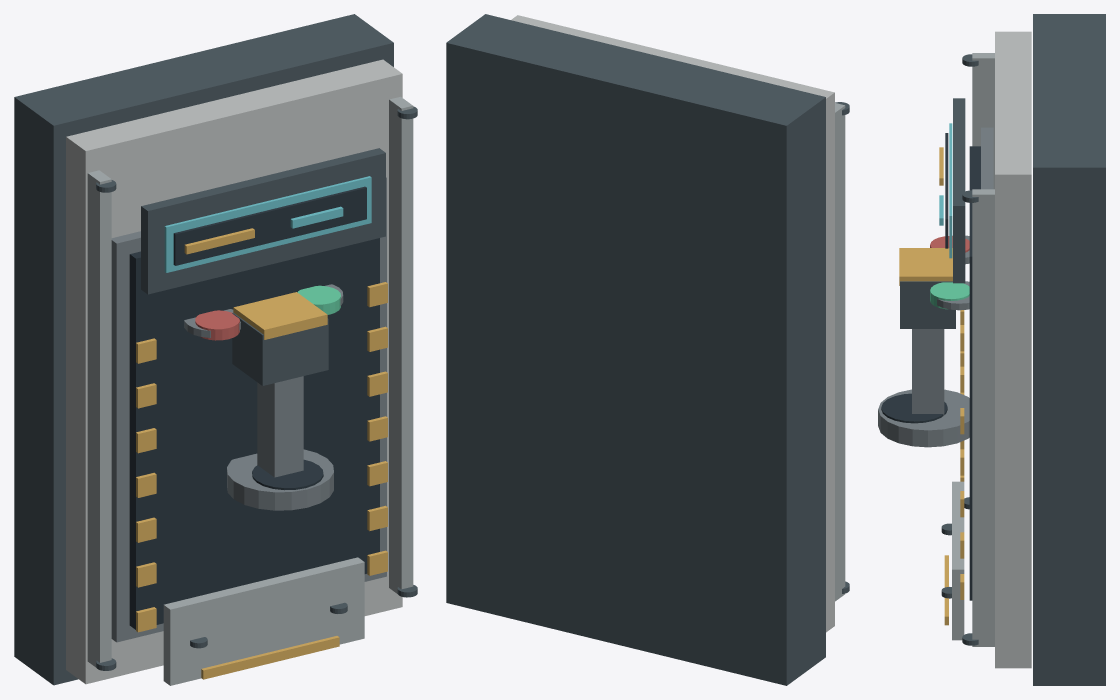
File: cruz-del-sur-auxiliary-power-switch.glb
3 views of the same model, side by side, from view 1: azimuth 30°, elevation 25°; view 2: azimuth 150°, elevation 25°; view 3: azimuth 270°, elevation 25° (orthographic). The views are drawn at different scales.
Parts seen in each view (by area): view 1: Housing_CentralBlackPanel, Housing_Backplate, Housing_WhiteFront, LowerMaintenancePlate, StatusPanel, SideTrim_-0.155, SideTrim_0.155, Housing_InnerRecess, StatusScreenOverlay, LEVER_GRIP_ANIMATE, LEVER_SHAFT_ANIMATE, StatusPanelScreen (+7 smaller); view 2: Housing_Backplate, Housing_WhiteFront, SideTrim_-0.155; view 3: Housing_Backplate, Housing_WhiteFront, SideTrim_0.155, LeverPivotFixed, LEVER_SHAFT_ANIMATE, StatusPanel, Housing_CentralBlackPanel, LEVER_GRIP_ANIMATE, SideTrim_-0.155, LEVER_GRIP_AMBER_ANIMATE, LowerMaintenancePlate, LeverPivotInnerFixed (+4 smaller).
Boxes of the visible parts, <box> form: Housing_CentralBlackPanel: <box>129,238,379,629</box>; Housing_Backplate: <box>14,14,393,685</box>; Housing_WhiteFront: <box>66,59,402,684</box>; LowerMaintenancePlate: <box>163,557,364,685</box>; StatusPanel: <box>141,148,385,294</box>; SideTrim_-0.155: <box>87,170,111,667</box>; SideTrim_0.155: <box>389,96,413,596</box>; Housing_InnerRecess: <box>111,177,386,642</box>; StatusScreenOverlay: <box>173,186,366,265</box>; LEVER_GRIP_ANIMATE: <box>232,312,328,385</box>; LEVER_SHAFT_ANIMATE: <box>257,376,303,477</box>; StatusPanelScreen: <box>164,176,371,272</box>; Housing_Backplate: <box>446,14,825,685</box>; Housing_WhiteFront: <box>511,15,834,632</box>; SideTrim_-0.155: <box>835,103,845,601</box>; Housing_Backplate: <box>1033,14,1105,685</box>; Housing_WhiteFront: <box>995,31,1031,668</box>; SideTrim_0.155: <box>972,189,994,646</box>; LeverPivotFixed: <box>878,389,969,447</box>; LEVER_SHAFT_ANIMATE: <box>912,329,944,415</box>; StatusPanel: <box>953,98,965,283</box>; Housing_CentralBlackPanel: <box>969,146,980,600</box>; LEVER_GRIP_ANIMATE: <box>900,281,955,328</box>; SideTrim_-0.155: <box>972,53,994,189</box>; LEVER_GRIP_AMBER_ANIMATE: <box>899,248,952,285</box>; LowerMaintenancePlate: <box>952,481,964,640</box>; LeverPivotInnerFixed: <box>881,393,947,423</box>.
Size of the model in its own units: 0.35 by 0.55 by 0.219.
